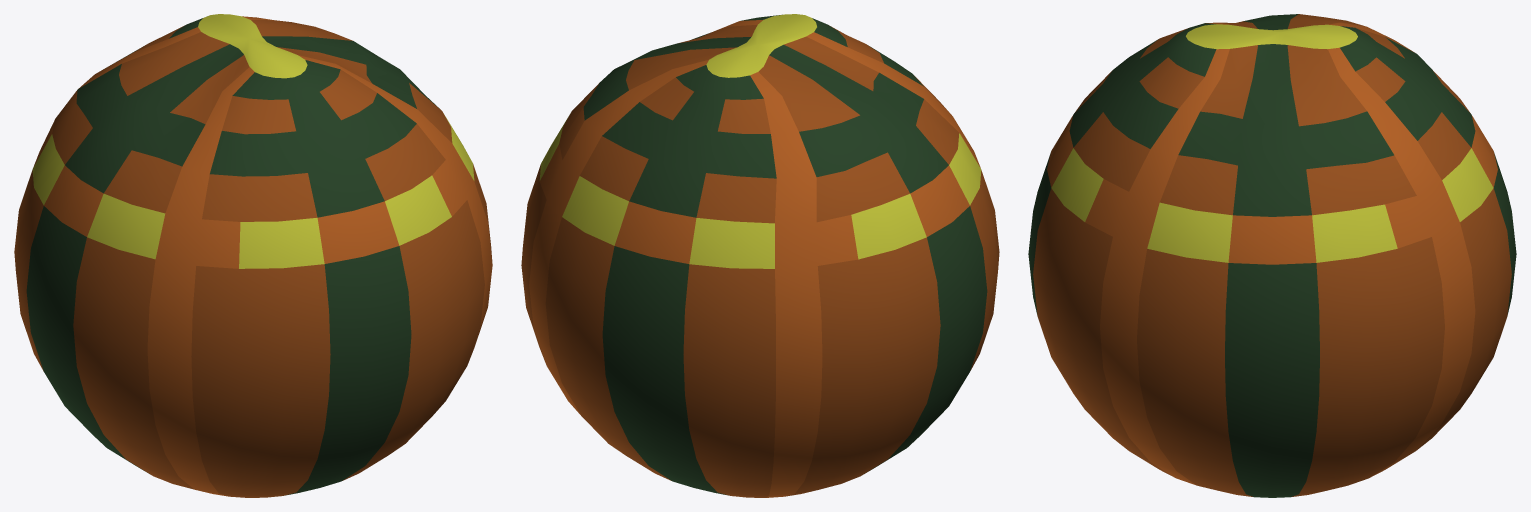
File: Body.fbx
3 renders of one model, left to right at view 1: azimuth 30°, elevation 25°; view 2: azimuth 150°, elevation 25°; view 3: azimuth 270°, elevation 25°, orthographic.
Visible parts, largest first — view 1: Body; view 2: Body; view 3: Body.
Boxes of the visible parts, left/top/right/bottom form: Body: left=14, top=14, right=492, bottom=497; Body: left=521, top=14, right=999, bottom=497; Body: left=1028, top=14, right=1516, bottom=497.
Bounding box in the file's own units: 145 × 145 × 145.
